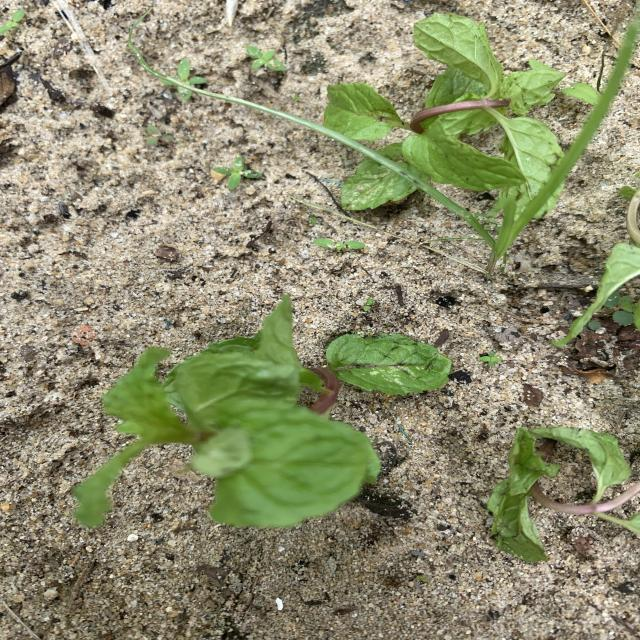crop: (73, 297, 451, 526), (379, 14, 564, 219), (488, 427, 639, 561), (597, 184, 639, 306), (324, 83, 402, 141), (341, 159, 415, 211)
weed: (190, 88, 612, 276), (212, 157, 262, 190), (245, 46, 285, 71), (0, 8, 25, 35), (314, 239, 364, 251), (145, 126, 175, 145), (479, 351, 502, 366), (362, 297, 374, 311), (416, 576, 427, 582)
